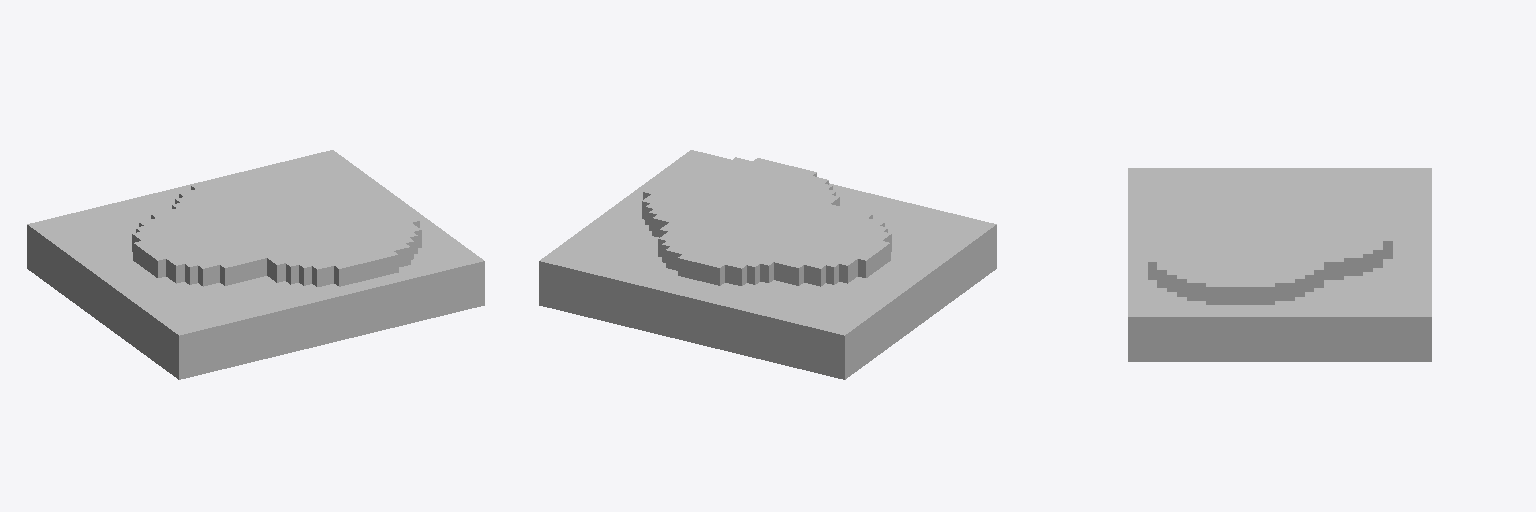
Rendered from tanah ada gundukan.obj.
The picture shows the model from 3 angles: view 1: azimuth 30°, elevation 25°; view 2: azimuth 150°, elevation 25°; view 3: azimuth 270°, elevation 25°; orthographic projection.
Size of the model in its own units: 36 by 7 by 31.